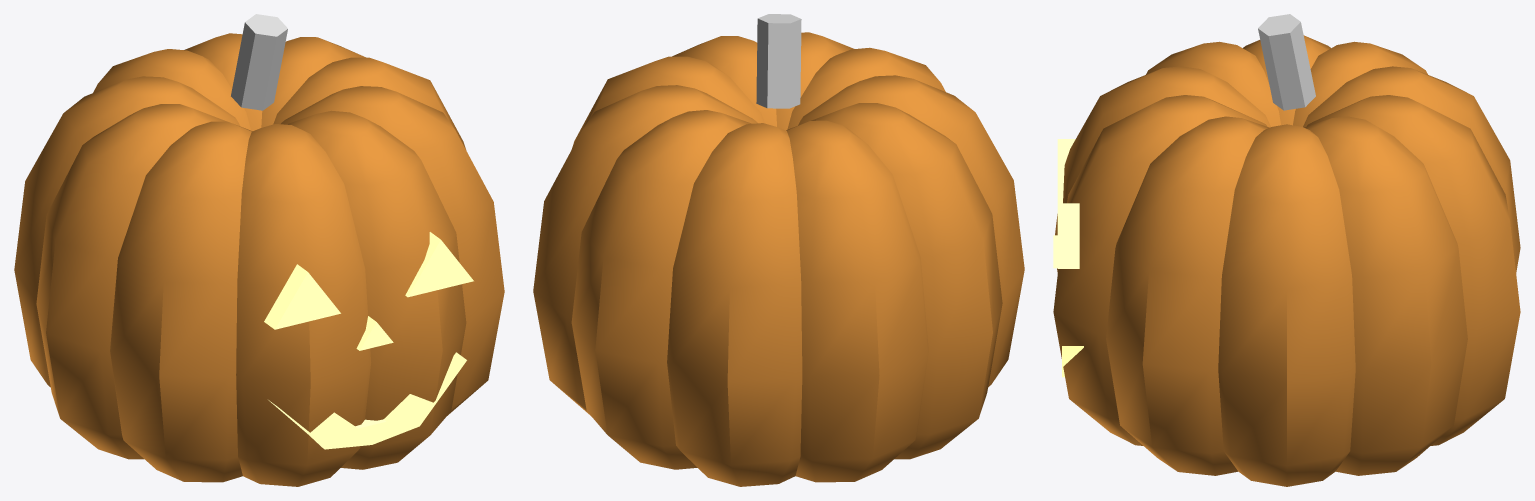
The model's file is SM_Pumpkin_Lantern.fbx.
3 views of the same model, side by side, from view 1: azimuth 30°, elevation 25°; view 2: azimuth 150°, elevation 25°; view 3: azimuth 270°, elevation 25° (orthographic).
Parts seen in each view (by area): view 1: SM_Pumpkin_Lantern_1; view 2: SM_Pumpkin_Lantern_1; view 3: SM_Pumpkin_Lantern_1.
Part boxes in pixels (bbox=[...]): SM_Pumpkin_Lantern_1: bbox=[14, 14, 504, 486]; SM_Pumpkin_Lantern_1: bbox=[533, 14, 1024, 486]; SM_Pumpkin_Lantern_1: bbox=[1053, 14, 1520, 486].
Bounding box in the file's own units: 45 × 39.27 × 42.8.
